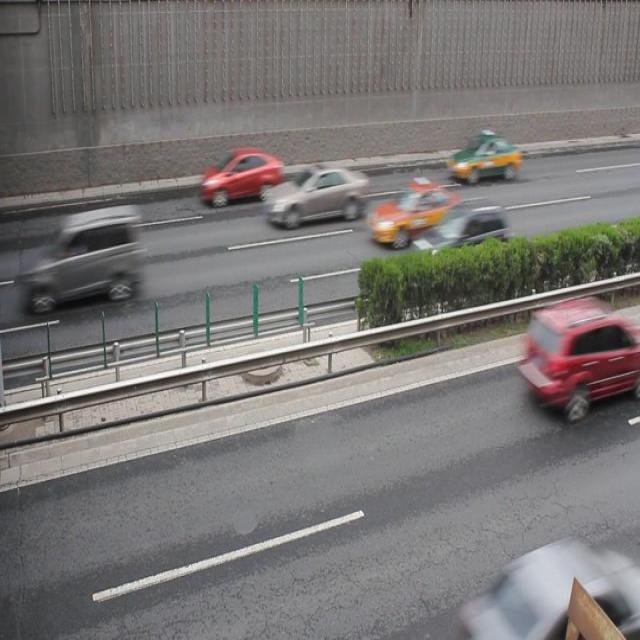car: (456, 532, 640, 640), (520, 296, 640, 414), (262, 159, 368, 229), (414, 198, 506, 274), (368, 176, 462, 246), (198, 145, 284, 206), (446, 129, 520, 184)
truck: (17, 206, 142, 312)
